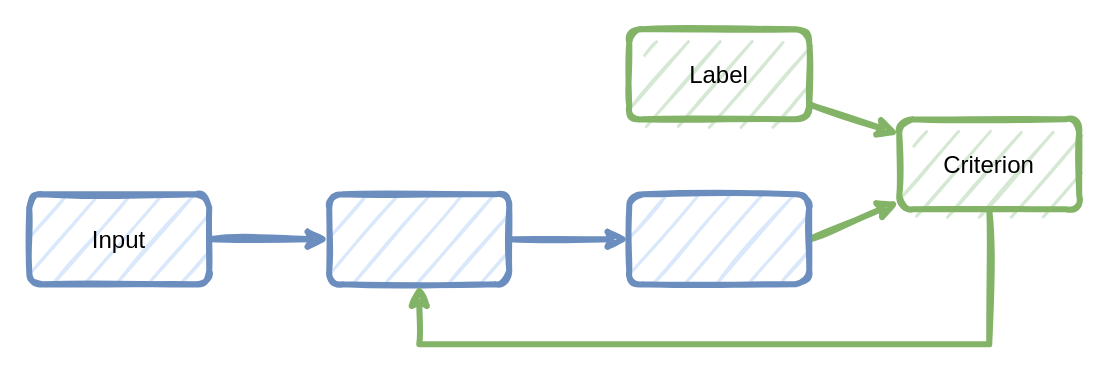
Image size: 1107x384. Some labels were removed from this diagram. The centre of each missing label's shape, as x and y in pixels:
Neural Network: the point at 419,238
Output: the point at 719,238
